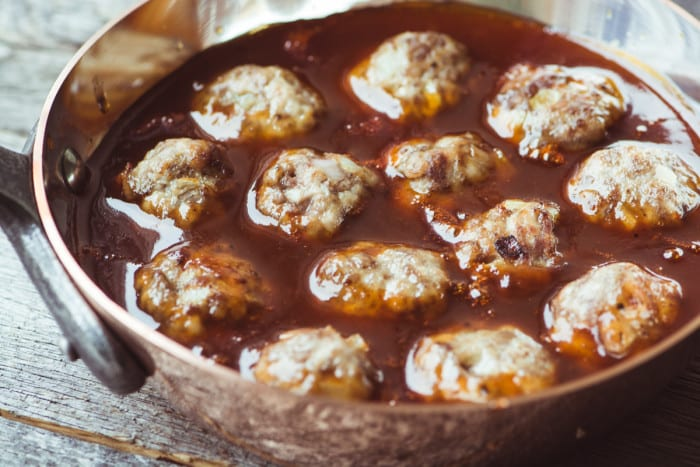meatballs: (492, 56, 618, 171), (406, 316, 541, 415), (566, 141, 697, 241), (548, 254, 668, 356), (236, 324, 382, 405), (341, 31, 480, 111), (378, 124, 516, 203), (248, 145, 365, 236), (140, 238, 254, 330), (306, 240, 444, 313), (455, 200, 570, 279), (197, 65, 311, 143), (127, 142, 230, 227)
